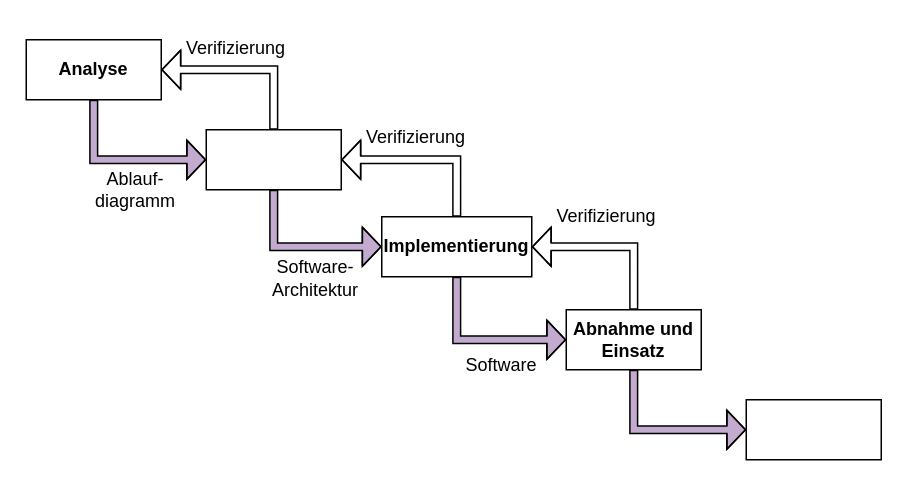
Some shapes in this 908 by 486 pixel diagram are drawn without their labels. The shapes that lost their labels are listed below. From the top down, each one's centre as x and y in pixels, then its label:
(x=273, y=159): Entwurf
(x=813, y=429): Dokumentation
